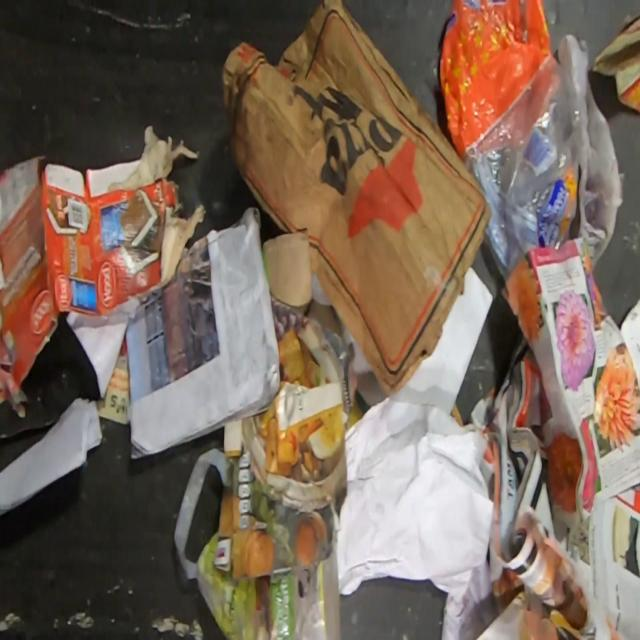cardboard: (0, 125, 207, 419), (212, 296, 370, 579), (260, 228, 312, 316)
soft_plastic: (172, 448, 341, 639), (464, 32, 590, 283), (439, 0, 552, 161), (577, 77, 626, 272)
